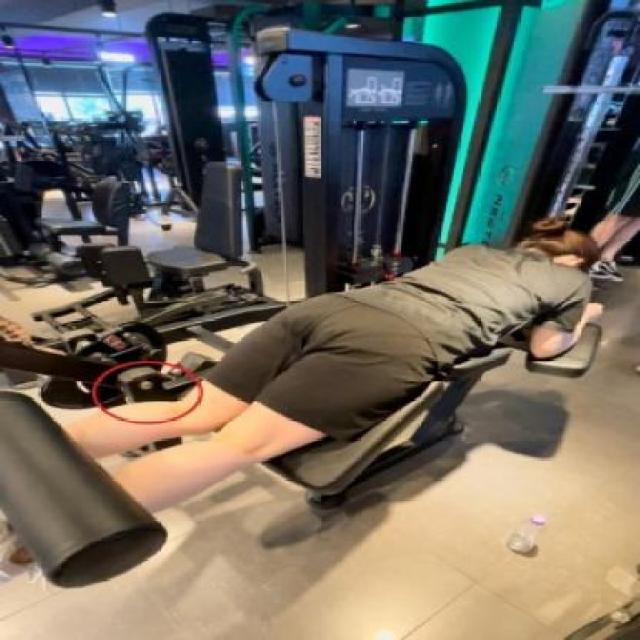reg curl machine: (0, 23, 606, 591)
